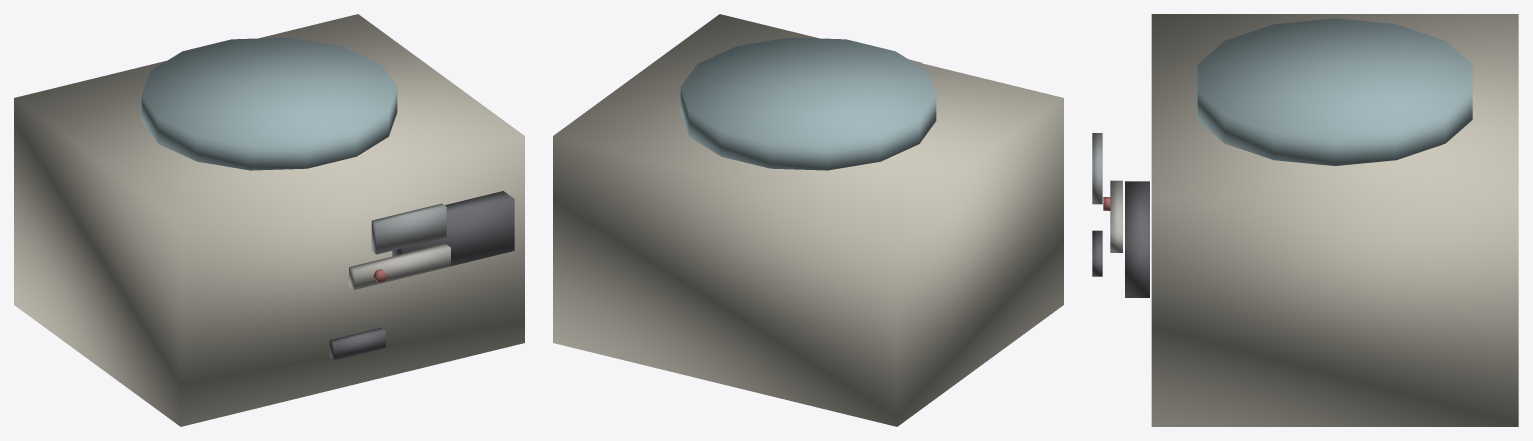
Rendered from centrifuge_bench_unit__weathered.glb.
The picture shows the model from 3 angles, left to right: view 1: azimuth 30°, elevation 25°; view 2: azimuth 150°, elevation 25°; view 3: azimuth 270°, elevation 25°; orthographic projection. The views are drawn at different scales.
Parts seen in each view (by area): view 1: world; view 2: world; view 3: world.
Boxes of the visible parts, x1,y1,x2,y2 form: world: (14, 14, 524, 426); world: (553, 14, 1063, 426); world: (1092, 14, 1518, 426).
Bounding box in the file's own units: 0.62 × 0.401 × 0.6041.
